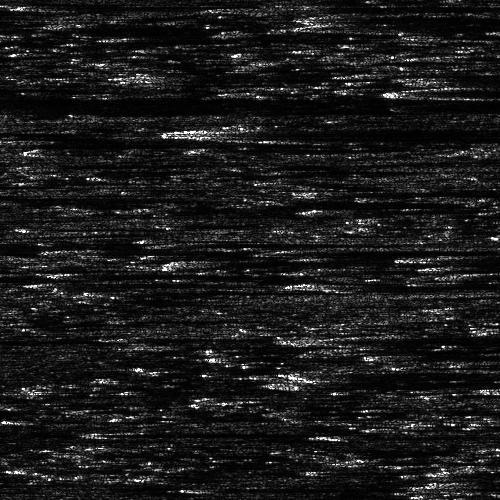object: (136, 122, 323, 139), (368, 253, 500, 274), (269, 327, 384, 348), (352, 82, 500, 95), (280, 9, 373, 26), (220, 2, 335, 13), (280, 185, 395, 196), (112, 70, 217, 81), (242, 369, 357, 378), (372, 77, 477, 86), (150, 257, 243, 266), (9, 278, 92, 287), (279, 279, 352, 288), (198, 27, 271, 36), (318, 456, 401, 463), (57, 429, 130, 436), (144, 239, 217, 246), (274, 381, 347, 388), (0, 136, 43, 147), (0, 1, 65, 8), (279, 432, 352, 437), (349, 351, 412, 356), (171, 486, 234, 491), (393, 31, 456, 36), (35, 160, 76, 167), (419, 473, 430, 488)
shadow: (0, 96, 380, 109), (229, 122, 500, 139), (326, 327, 500, 348), (326, 9, 500, 26), (196, 257, 500, 266), (278, 2, 461, 13), (164, 70, 338, 81), (300, 369, 500, 378), (337, 185, 500, 196), (0, 136, 155, 147), (315, 279, 500, 288), (50, 278, 218, 287), (436, 253, 500, 274), (311, 381, 490, 388), (180, 239, 356, 246), (0, 192, 111, 203), (94, 429, 262, 436), (425, 473, 500, 488), (202, 486, 372, 491), (436, 82, 500, 95), (28, 1, 142, 8), (56, 160, 167, 167), (425, 77, 500, 86), (316, 432, 436, 437), (381, 351, 500, 356), (235, 27, 293, 36), (360, 456, 420, 463), (425, 31, 500, 36), (0, 338, 27, 345), (51, 248, 107, 249)
